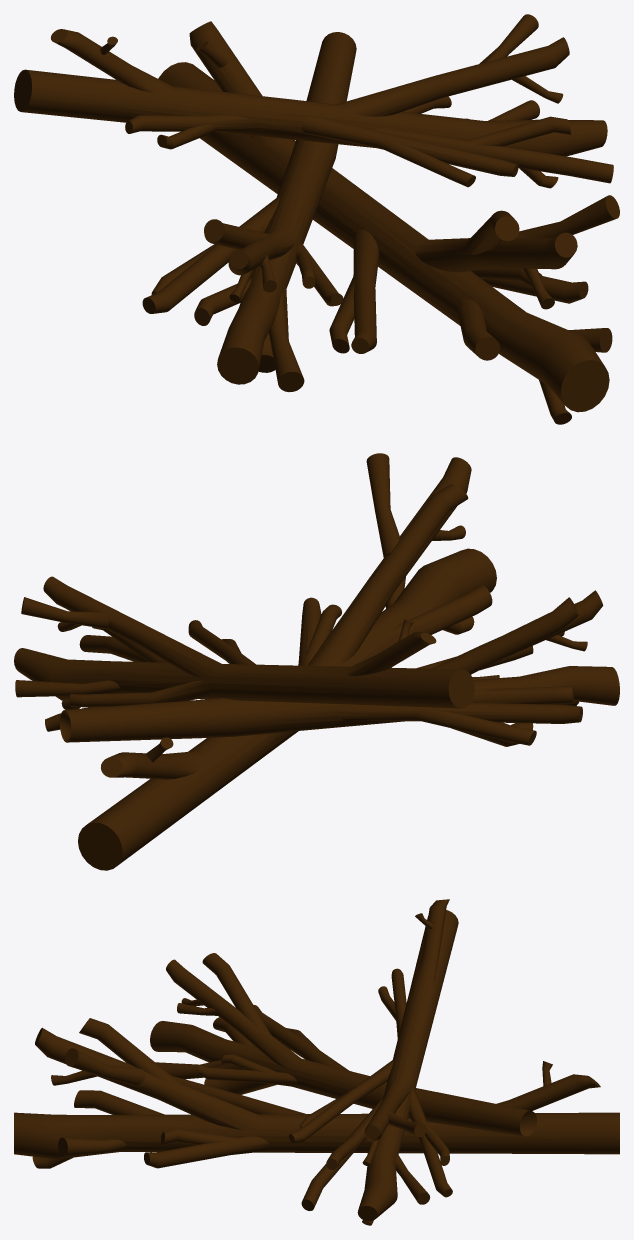
The model's file is 48_stick_pile3.fbx.
3 views of the same model, one above another, from view 1: azimuth 30°, elevation 25°; view 2: azimuth 150°, elevation 25°; view 3: azimuth 270°, elevation 25° (orthographic). The views are drawn at different scales.
Visible parts, largest first — view 1: pCylinder181; view 2: pCylinder181; view 3: pCylinder181.
Part boxes in pixels (x1=…): pCylinder181: x1=14, y1=14, x2=619, y2=424; pCylinder181: x1=14, y1=453, x2=619, y2=870; pCylinder181: x1=14, y1=899, x2=619, y2=1225.
Bounding box in the file's own units: 1.74 × 0.7749 × 2.28.
